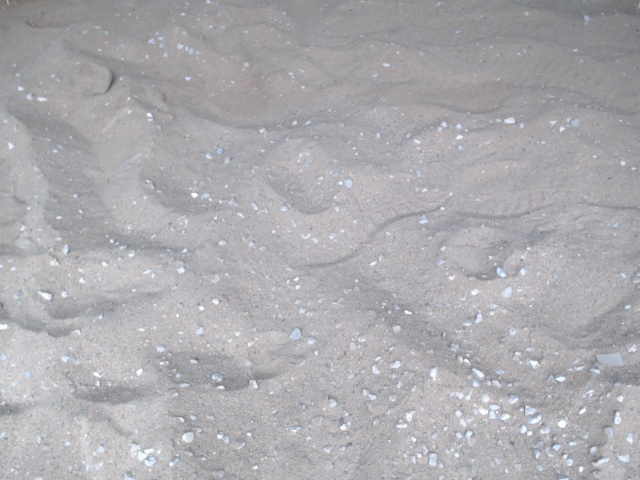rock: (63, 56, 119, 101)
